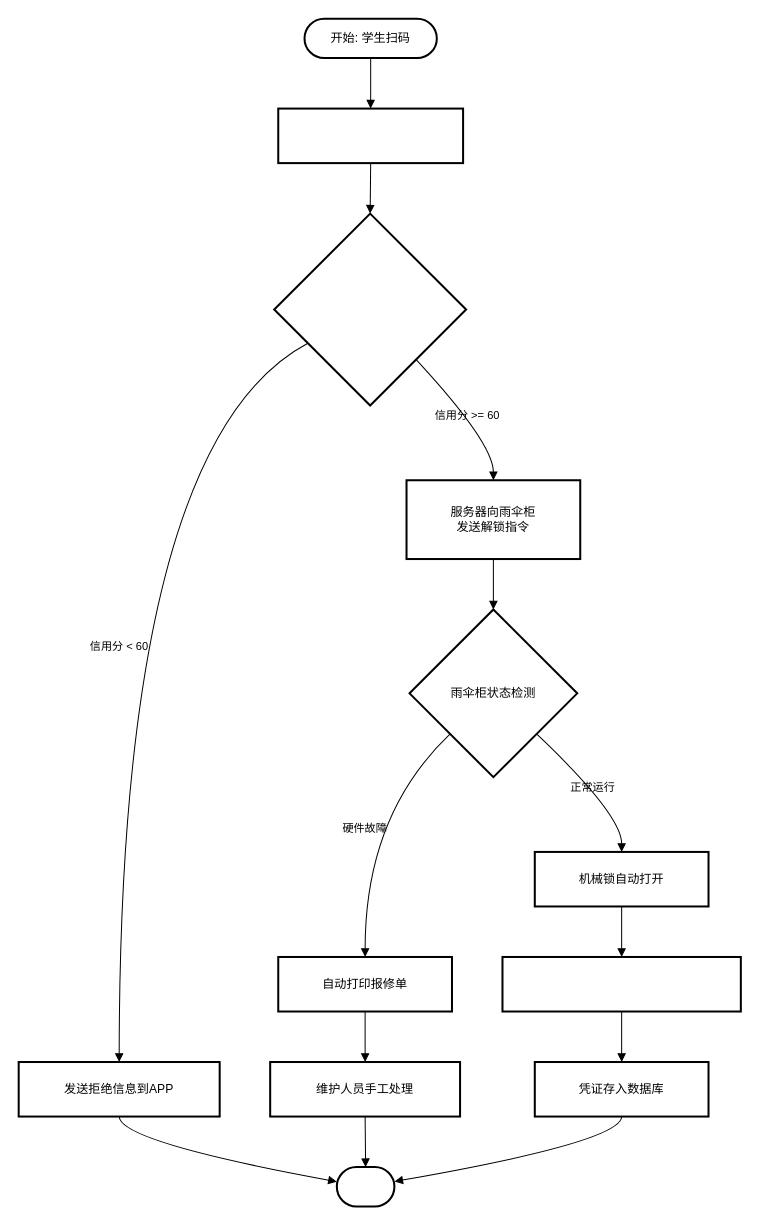
The diagram is 759 pixels wide and 1224 high, and some of its shapes have lost their labels. The centre of each missing label's shape, as x and y in pixels:
"APP发送借伞请求" goes at pixel 370 135.
"服务器查询 学生信用数据库" goes at pixel 370 309.
"服务器生成借伞电子凭证" goes at pixel 621 983.
"结束" goes at pixel 365 1186.
